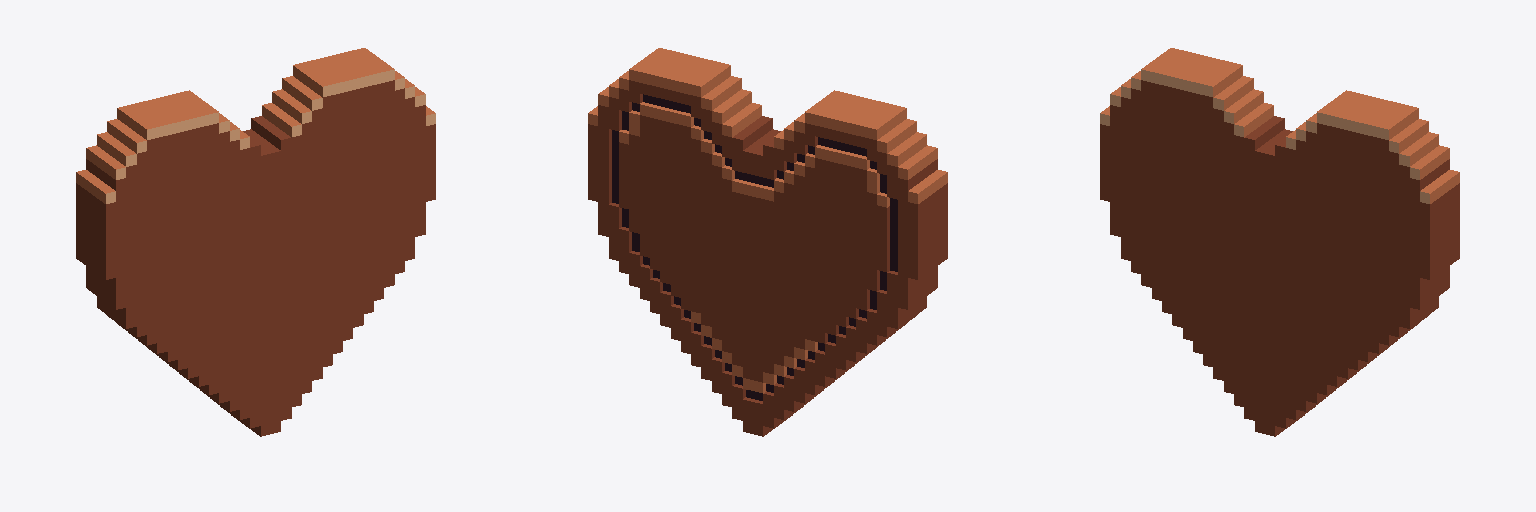
The model's file is WoodHeartDecor.obj.
The picture shows the model from 3 angles: view 1: azimuth 30°, elevation 25°; view 2: azimuth 150°, elevation 25°; view 3: azimuth 330°, elevation 25°; orthographic projection.
Size of the model in its own units: 32 by 31 by 5.